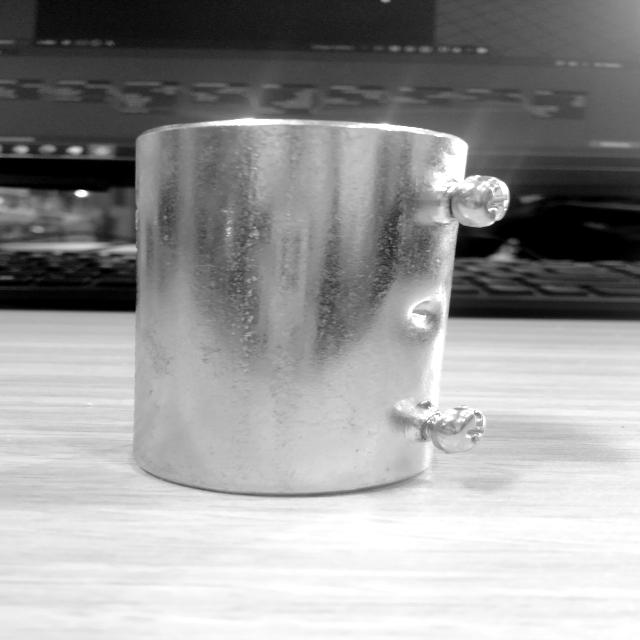Co_Nho: (131, 116, 513, 498)
